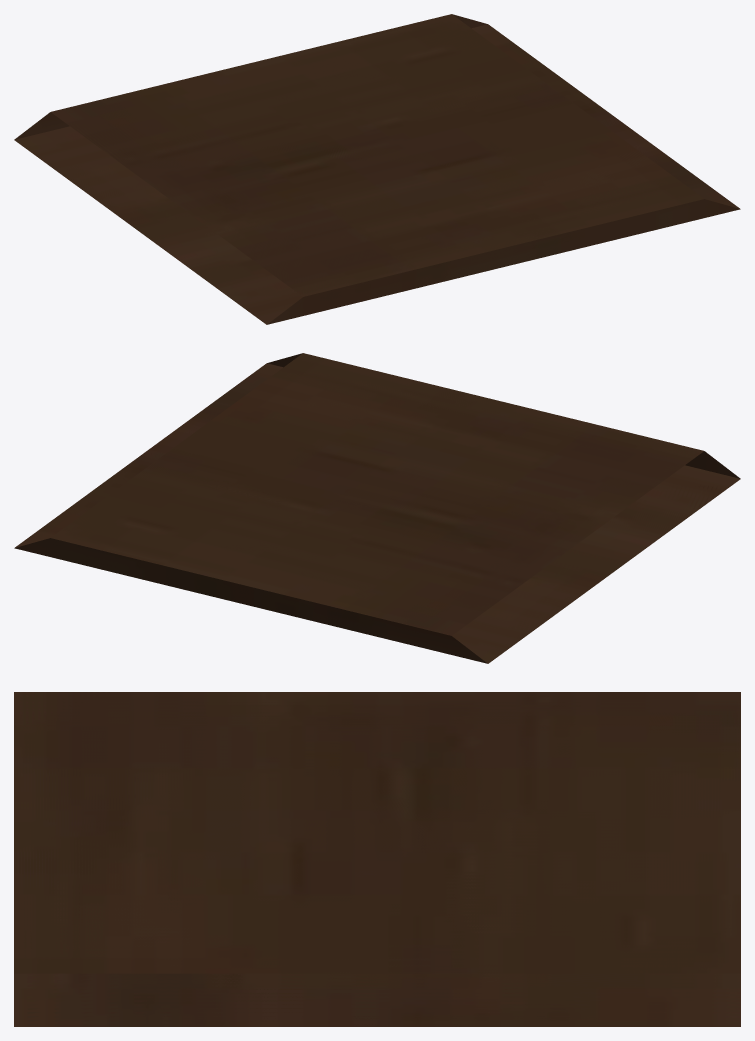
Rendered from link_8__other_leaf-16.glb.
3 renders of one model, top to bottom at view 1: azimuth 30°, elevation 25°; view 2: azimuth 150°, elevation 25°; view 3: azimuth 270°, elevation 25°, orthographic. The views are drawn at different scales.
Parts seen in each view (by area): view 1: geometry_0; view 2: geometry_0; view 3: geometry_0.
Part boxes in pixels (x1,y1,x2,y2): geometry_0: (14, 14, 740, 324); geometry_0: (14, 353, 740, 663); geometry_0: (14, 692, 740, 1026).
Size of the model in its own units: 0.1365 by 0.00525 by 0.126.
1 material, 1 textured.
